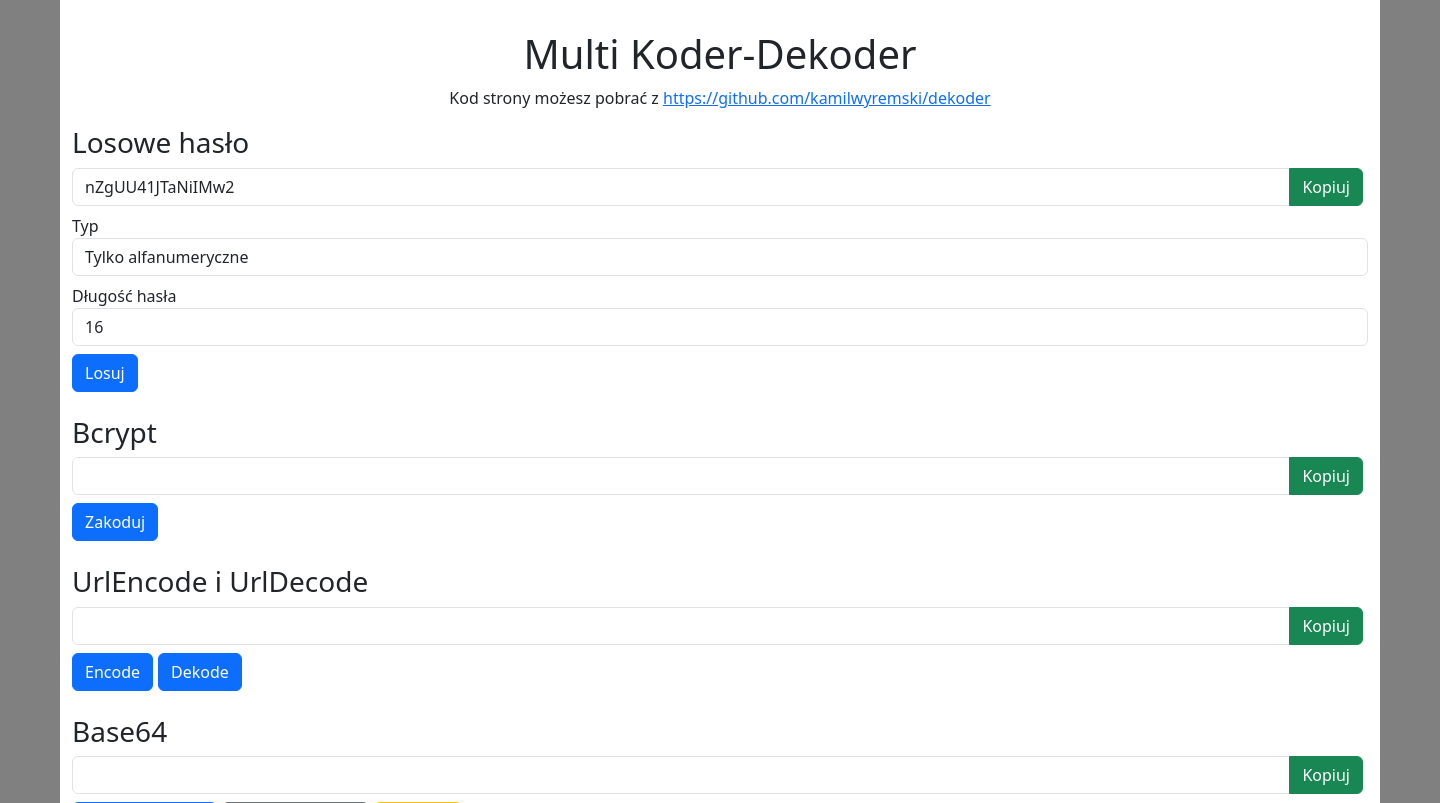
Scenario: App Component Tests › sprawdź URLENCODE
In the 3rd field named "input_urldecode": (681, 626) [72,607,1290,645], type "http://localhost:3000/ ze spacją"
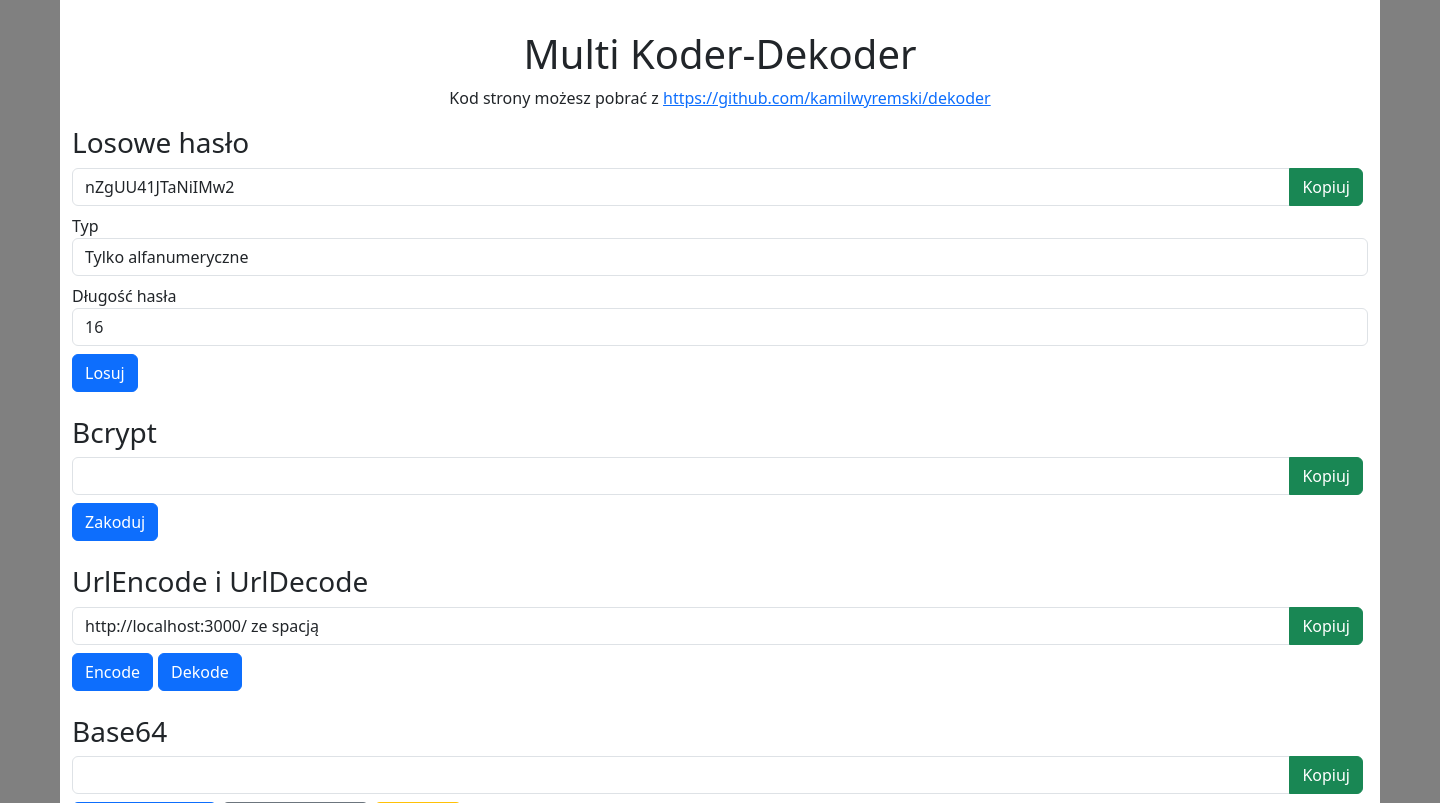
Click the button with id "button_urlencode": (112, 672) [72,653,153,691]
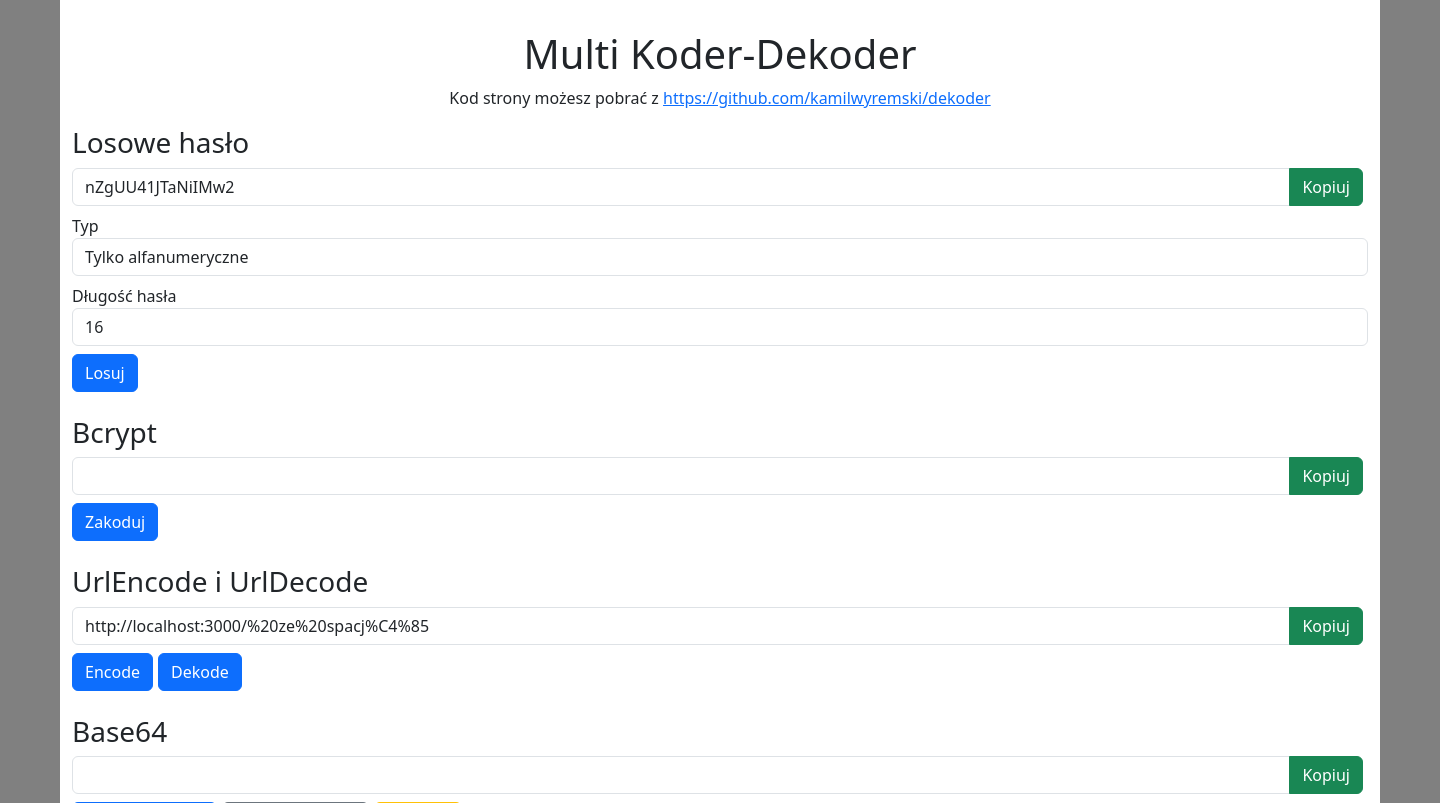
expect the 3rd field named "input_urldecode" holds "http://localhost:3000/%20ze%20spacj%C4%85": met, box [72,607,1290,645]
